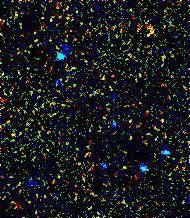star: (46, 72, 76, 102)
